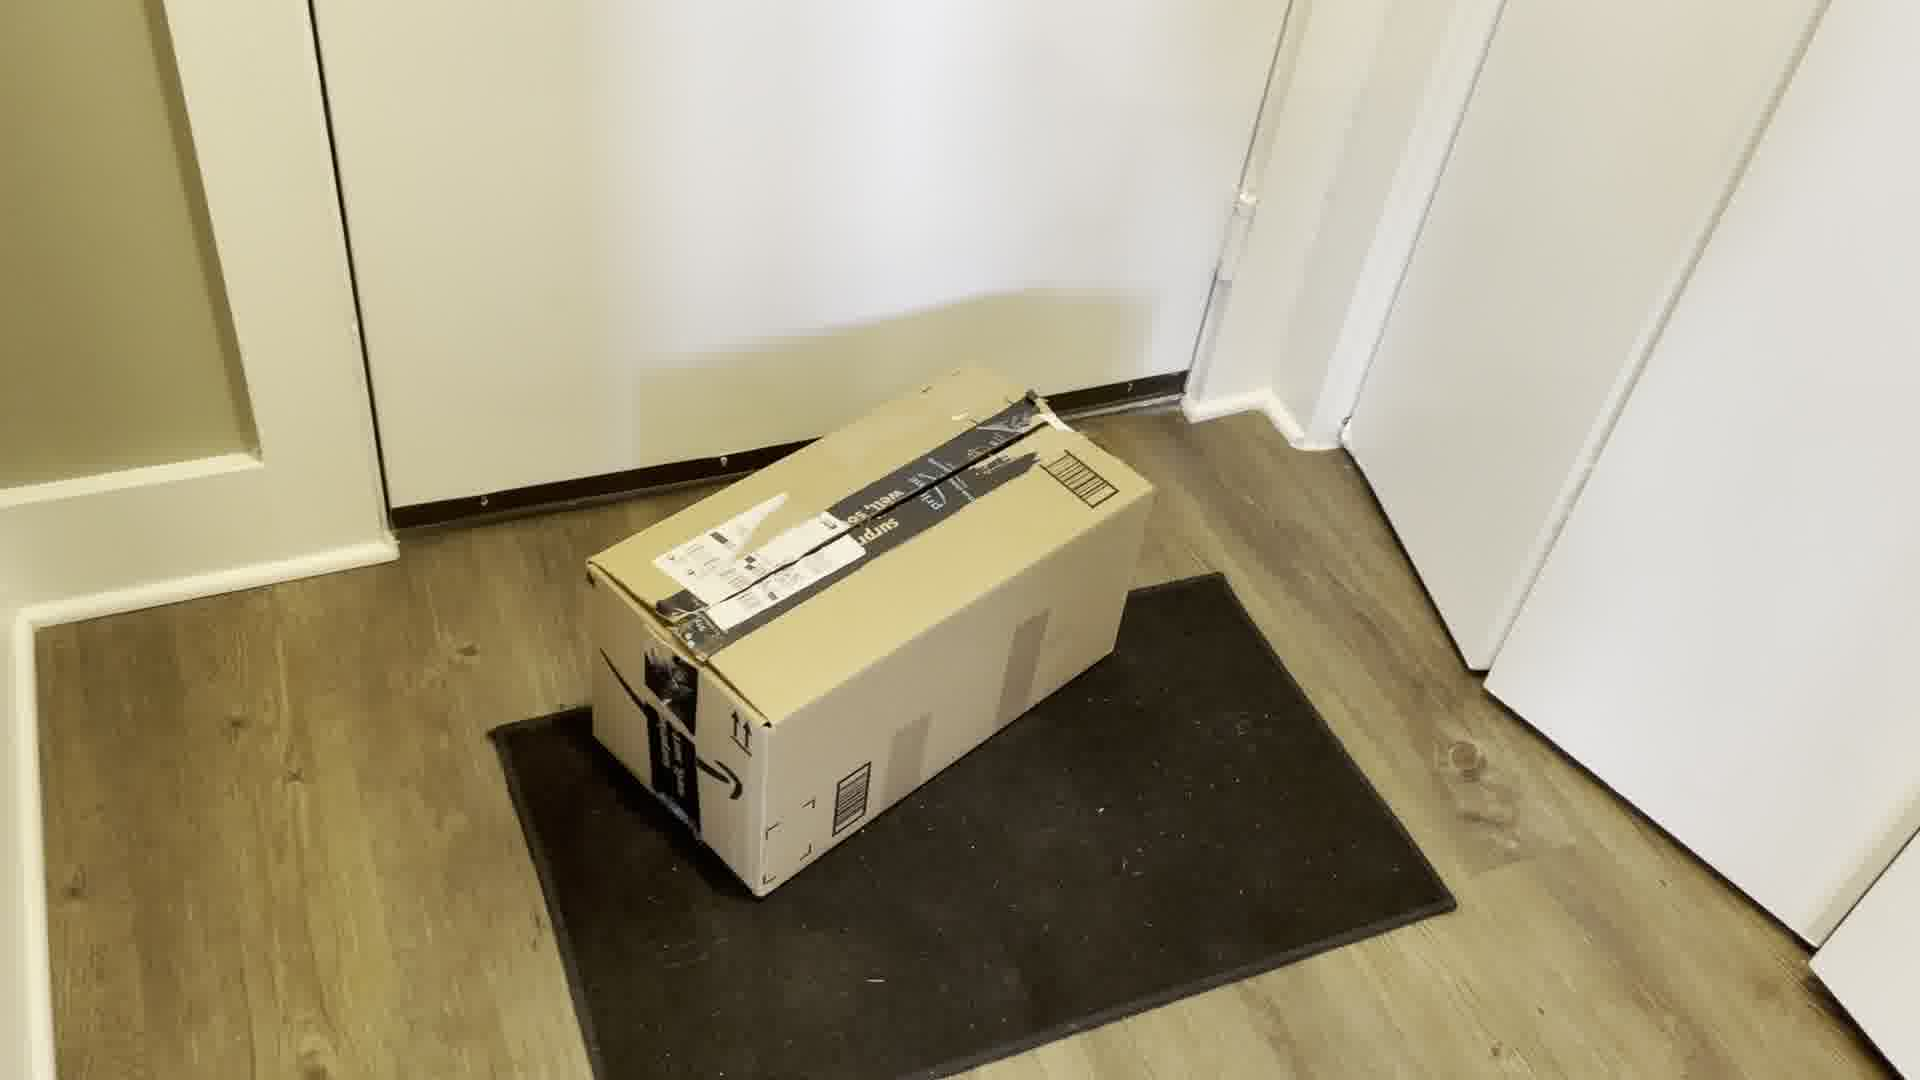box: (568, 365, 1167, 919)
